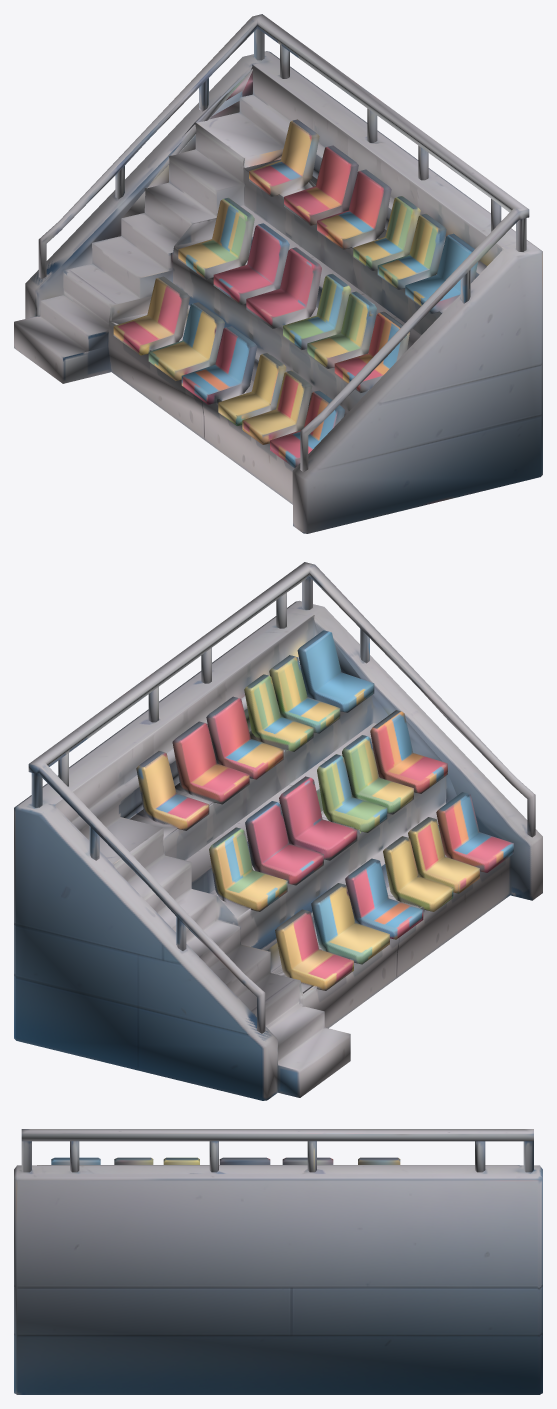
Rendered from Grandstand.glb.
The picture shows the model from 3 angles, top to bottom: view 1: azimuth 30°, elevation 25°; view 2: azimuth 150°, elevation 25°; view 3: azimuth 270°, elevation 25°; orthographic projection. The views are drawn at different scales.
Parts seen in each view (by area): view 1: mesh_rep_0_ori_repair; view 2: mesh_rep_0_ori_repair; view 3: mesh_rep_0_ori_repair.
Boxes of the visible parts, <box> form: mesh_rep_0_ori_repair: <box>14,14,542,533</box>; mesh_rep_0_ori_repair: <box>14,562,542,1100</box>; mesh_rep_0_ori_repair: <box>14,1129,542,1394</box>.
Bounding box in the file's own units: 0.5332 × 0.509 × 0.9545.
Materials: 1 (1 with a texture image).
